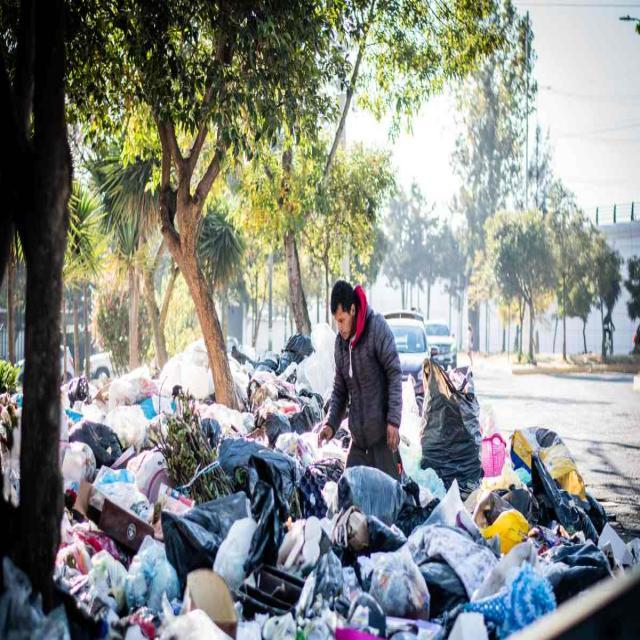garbage: (61, 376, 322, 640), (506, 418, 614, 540), (412, 339, 487, 514), (331, 460, 413, 532), (225, 333, 318, 378)
